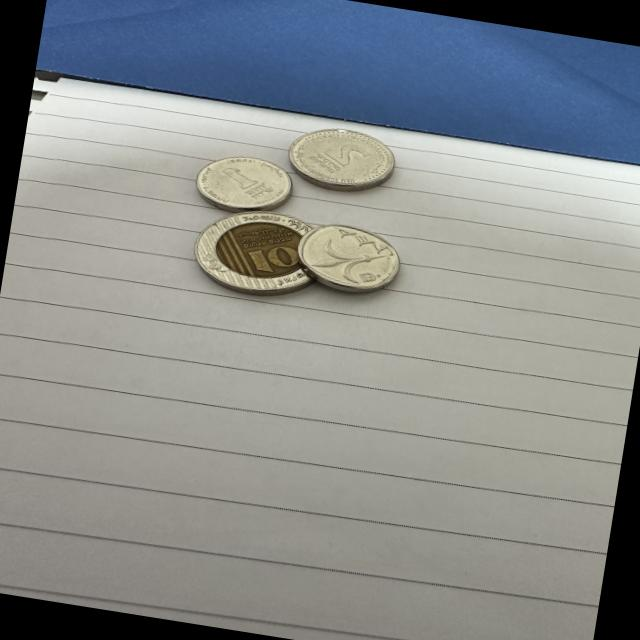1-shekel: (290, 217, 406, 297), (188, 148, 296, 218)
10-shekel: (179, 197, 328, 306)
2-shekel: (284, 120, 398, 198)
